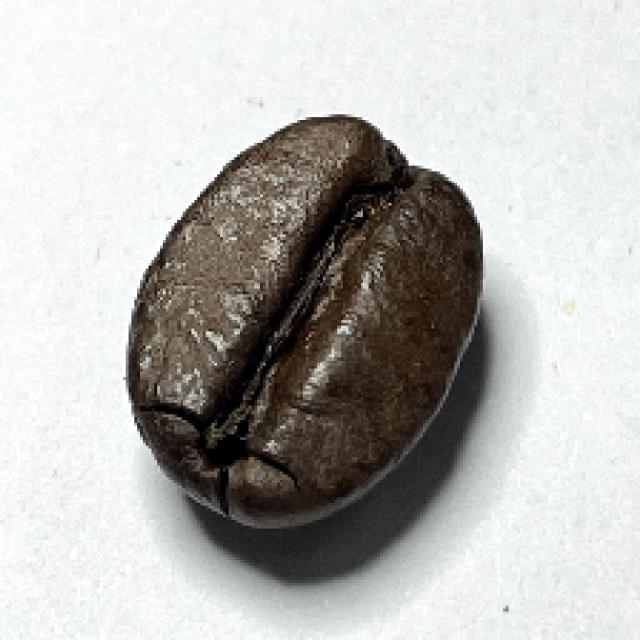bean: (120, 108, 492, 532)
